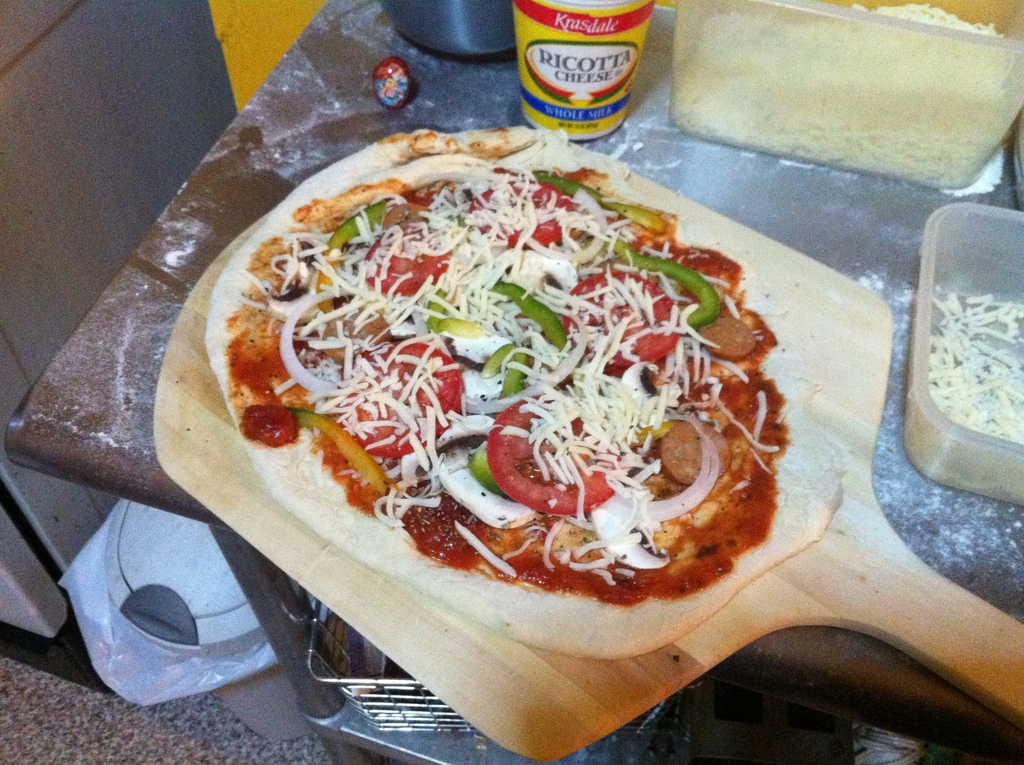Pizza: (200, 144, 814, 615)
